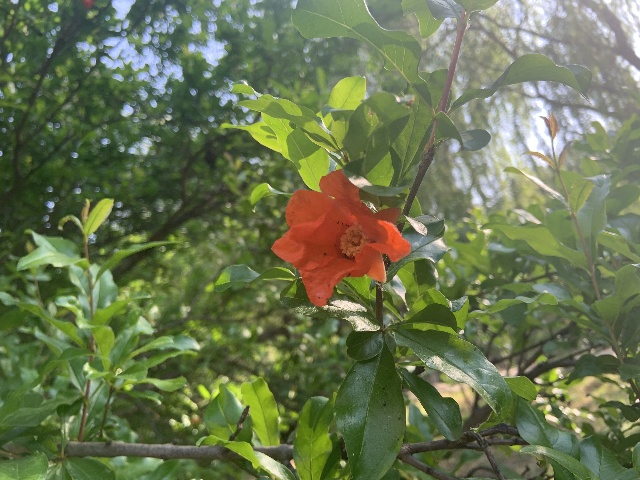flower: (270, 169, 411, 307)
